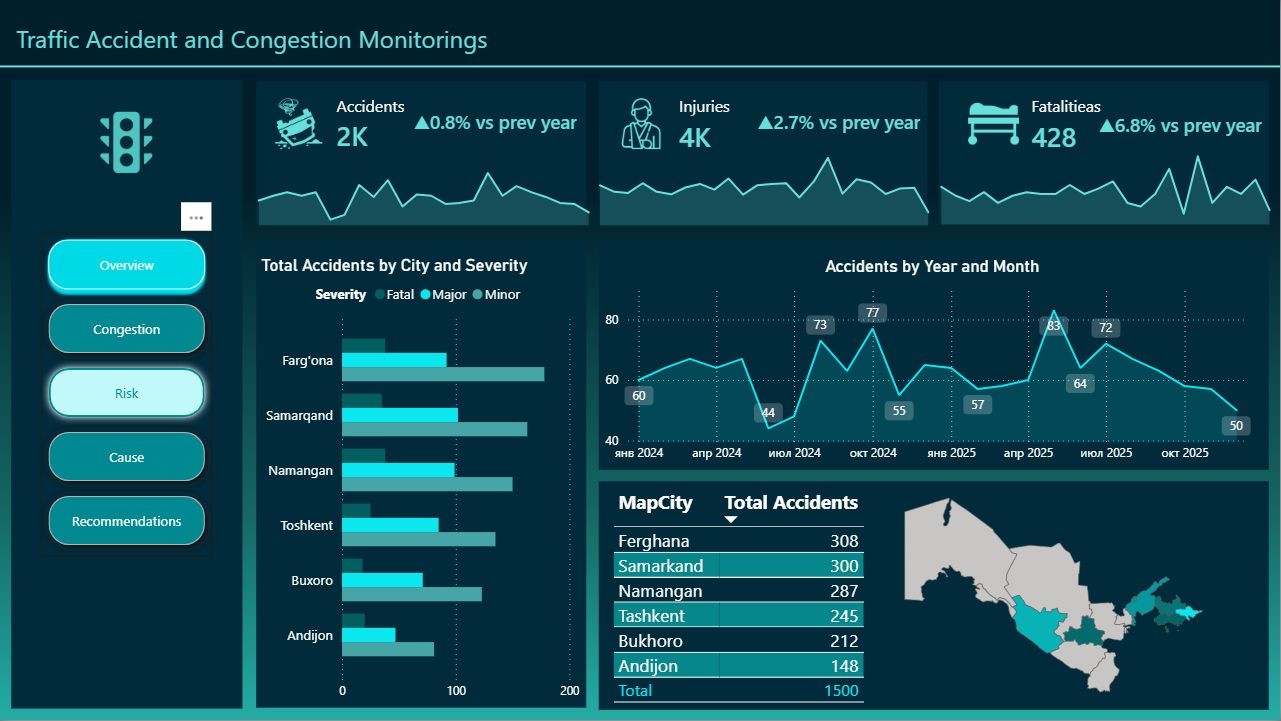

The page's visual inventory and layout, read from the dashboard file:
{"tool":"powerbi","page":{"name":"Overview","canvas":[1280,720],"ordinal":0},"visuals":[{"type":"shape","box":[11.4,80,231.4,628.6],"z":0},{"type":"shape","box":[0,60,1280,12.9],"z":1000},{"type":"textbox","box":[11.4,17.1,492.9,42.9],"z":2000},{"type":"image","box":[73,110,108,65],"z":3000},{"type":"shape","box":[256.7,81.7,330,143.3],"z":4000},{"type":"shape","box":[598.6,81.4,328.6,144.3],"z":5000},{"type":"shape","box":[938.3,81.7,330,143.3],"z":6000},{"type":"cardVisual","fields":{"Data":["All measures.Total Accidents"]},"box":[255.7,92.9,302.9,62.9],"z":7000},{"type":"cardVisual","fields":{"Data":["All measures.% TA vs LastYear txt"]},"box":[408.8,98.8,182.5,43.8],"z":8000},{"type":"shape","box":[256.7,241.7,330,466.7],"z":9000},{"type":"lineChart","fields":{"Y":["All measures.Total Accidents"],"Category":["Accidents.DateTime.Variation.Date Hierarchy.Year","Accidents.DateTime.Variation.Date Hierarchy.Month"]},"box":[248.3,143.3,350,81.7],"z":10000},{"type":"cardVisual","fields":{"Data":["All measures.Injuries"]},"box":[598.8,92.5,302.5,63.8],"z":11000},{"type":"cardVisual","fields":{"Data":["All measures.Fatalitieas"]},"box":[951.2,92.5,302.5,63.8],"z":12000},{"type":"cardVisual","fields":{"Data":["All measures.% Inj vs LastYear txt"]},"box":[752.5,98.8,173.8,43.8],"z":13000},{"type":"lineChart","fields":{"Y":["All measures.Injuries"],"Category":["Accidents.DateTime.Variation.Date Hierarchy.Year","Accidents.DateTime.Variation.Date Hierarchy.Month"]},"box":[590,143.3,348.3,81.7],"z":14000},{"type":"lineChart","fields":{"Category":["Accidents.DateTime.Variation.Date Hierarchy.Year","Accidents.DateTime.Variation.Date Hierarchy.Month"],"Y":["All measures.Fatalitieas"]},"box":[931.7,143.3,348.3,81.7],"z":15000},{"type":"shape","box":[598.6,481.4,670,228.6],"z":16000},{"type":"cardVisual","fields":{"Data":["All measures.% Fatalitieas vs LastYear txt"]},"box":[1093.3,103.1,174.2,42.9],"z":17000},{"type":"shapeMap","fields":{"Category":["Regions.MapCity"],"Value":["All measures.Total Accidents"]},"box":[838.6,482.9,430,225.7],"z":18000},{"type":"tableEx","fields":{"Values":["Regions.MapCity","All measures.Total Accidents"]},"box":[607,483,268,227],"z":19000},{"type":"shape","box":[598.6,241.4,670,228.6],"z":20000},{"type":"lineChart","title":"Accidents by Year and Month","fields":{"Y":["All measures.Total Accidents"],"Category":["Accidents.DateTime.Variation.Date Hierarchy.Year","Accidents.DateTime.Variation.Date Hierarchy.Month"]},"box":[598.6,255.7,667.1,214.3],"z":21000},{"type":"clusteredBarChart","fields":{"Category":["Regions.City"],"Y":["All measures.Total Accidents"],"Series":["Accidents.Severity"]},"box":[256.7,255,328.3,453.3],"z":22000},{"type":"pageNavigator","box":[41,233,171,323],"z":23000}]}

Visuals, with their boxes in screenshot pixels (x1, y1, x2, y2), scaled from the page's 1280x720 canvas onto the 1281x721 screenshot:
shape: 11/80/243/710
shape: 0/60/1280/73
textbox: 11/17/505/60
image: 73/110/181/175
shape: 257/82/587/225
shape: 599/82/928/226
shape: 939/82/1269/225
cardVisual - All measures.Total Accidents: 256/93/559/156
cardVisual - All measures.% TA vs LastYear txt: 409/99/592/143
shape: 257/242/587/709
lineChart - All measures.Total Accidents x Accidents.DateTime.Variation.Date Hierarchy.Year: 248/143/599/225
cardVisual - All measures.Injuries: 599/93/902/157
cardVisual - All measures.Fatalitieas: 952/93/1255/157
cardVisual - All measures.% Inj vs LastYear txt: 753/99/927/143
lineChart - All measures.Injuries x Accidents.DateTime.Variation.Date Hierarchy.Year: 590/143/939/225
lineChart - Accidents.DateTime.Variation.Date Hierarchy.Year x Accidents.DateTime.Variation.Date Hierarchy.Month: 932/143/1280/225
shape: 599/482/1270/711
cardVisual - All measures.% Fatalitieas vs LastYear txt: 1094/103/1268/146
shapeMap - Regions.MapCity x All measures.Total Accidents: 839/484/1270/710
tableEx - Regions.MapCity x All measures.Total Accidents: 607/484/876/711
shape: 599/242/1270/471
"Accidents by Year and Month" lineChart: 599/256/1267/471
clusteredBarChart - Regions.City x All measures.Total Accidents: 257/255/585/709
pageNavigator: 41/233/212/557
